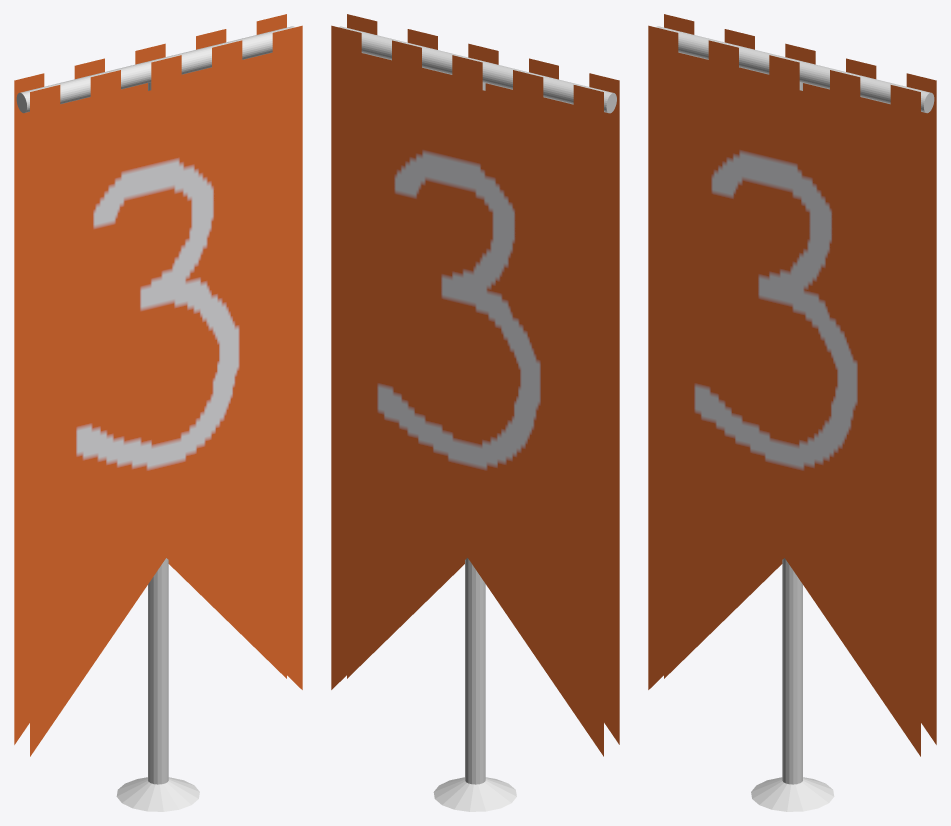
File: flag.fbx
3 renders of one model, left to right at view 1: azimuth 30°, elevation 25°; view 2: azimuth 150°, elevation 25°; view 3: azimuth 330°, elevation 25°, orthographic.
Parts seen in each view (by area): view 1: Плоскость.001, Плоскость.002, Cylinder, Cylinder.001, Cone; view 2: Плоскость.002, Плоскость.001, Cylinder, Cylinder.001, Cone; view 3: Плоскость.001, Плоскость.002, Cylinder, Cylinder.001, Cone.
Boxes of the visible parts, x1,y1,x2,y2 form: Плоскость.001: (30,25,302,756); Плоскость.002: (14,14,286,744); Cylinder: (148,82,168,784); Cylinder.001: (16,26,294,113); Cone: (116,777,199,811); Плоскость.002: (331,25,603,756); Плоскость.001: (347,14,619,744); Cylinder: (465,82,485,784); Cylinder.001: (339,26,616,113); Cone: (433,777,516,811); Плоскость.001: (648,25,920,756); Плоскость.002: (664,14,936,744); Cylinder: (782,82,802,784); Cylinder.001: (656,26,934,113); Cone: (751,777,834,811).
Bounding box in the file's own units: 303 × 788 × 80.93.
